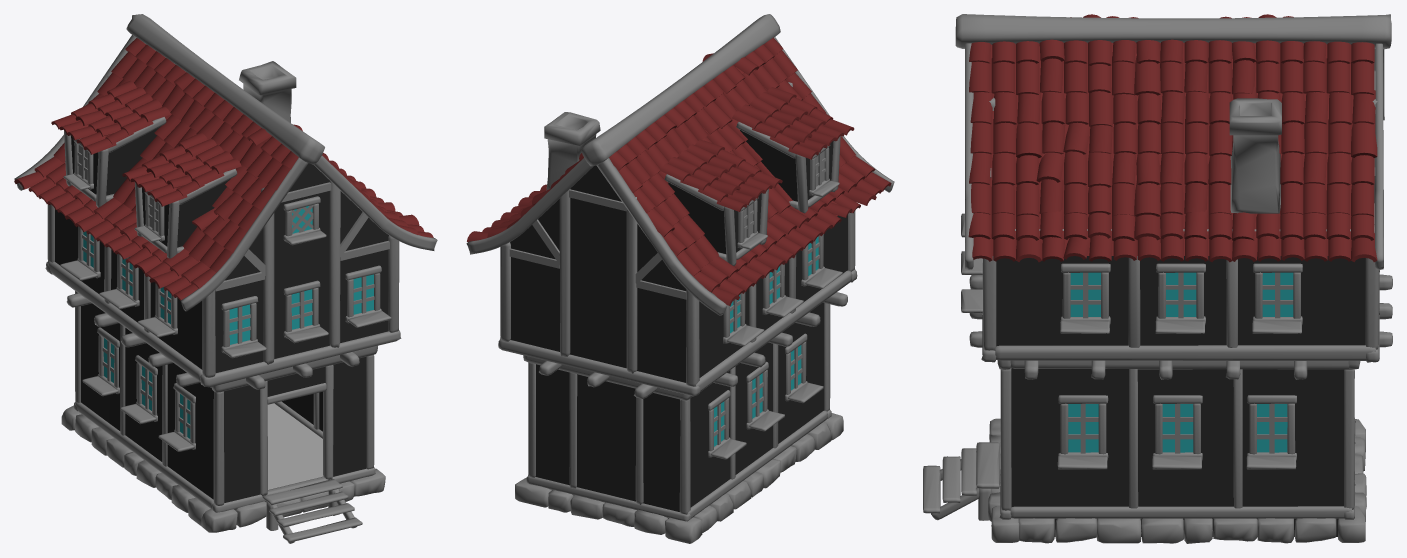
File: SM_house_01.fbx
3 views of the same model, side by side, from view 1: azimuth 30°, elevation 25°; view 2: azimuth 150°, elevation 25°; view 3: azimuth 270°, elevation 25° (orthographic). The views are drawn at different scales.
Parts seen in each view (by area): view 1: Object342555; view 2: Object342555; view 3: Object342555.
Part boxes in pixels (x1,y1,x2,y2): Object342555: (14,14,437,543); Object342555: (466,14,894,543); Object342555: (923,14,1392,543).
Size of the model in its own units: 234 by 336 by 295.
